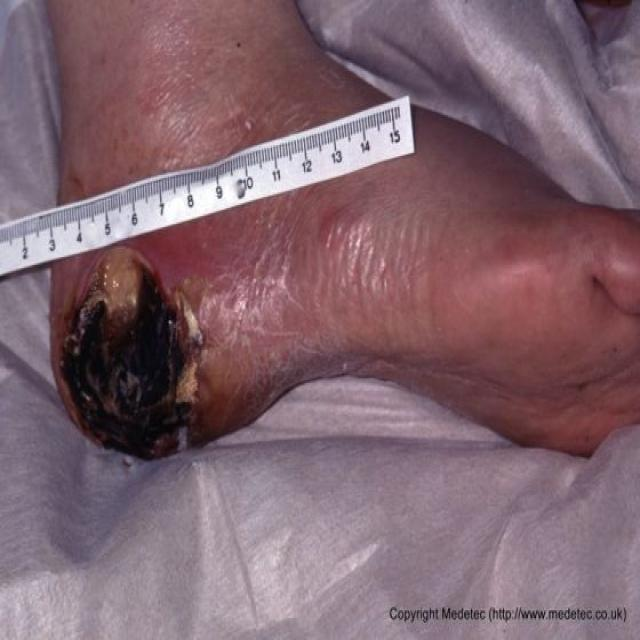Unstageable: (60, 247, 202, 458)
